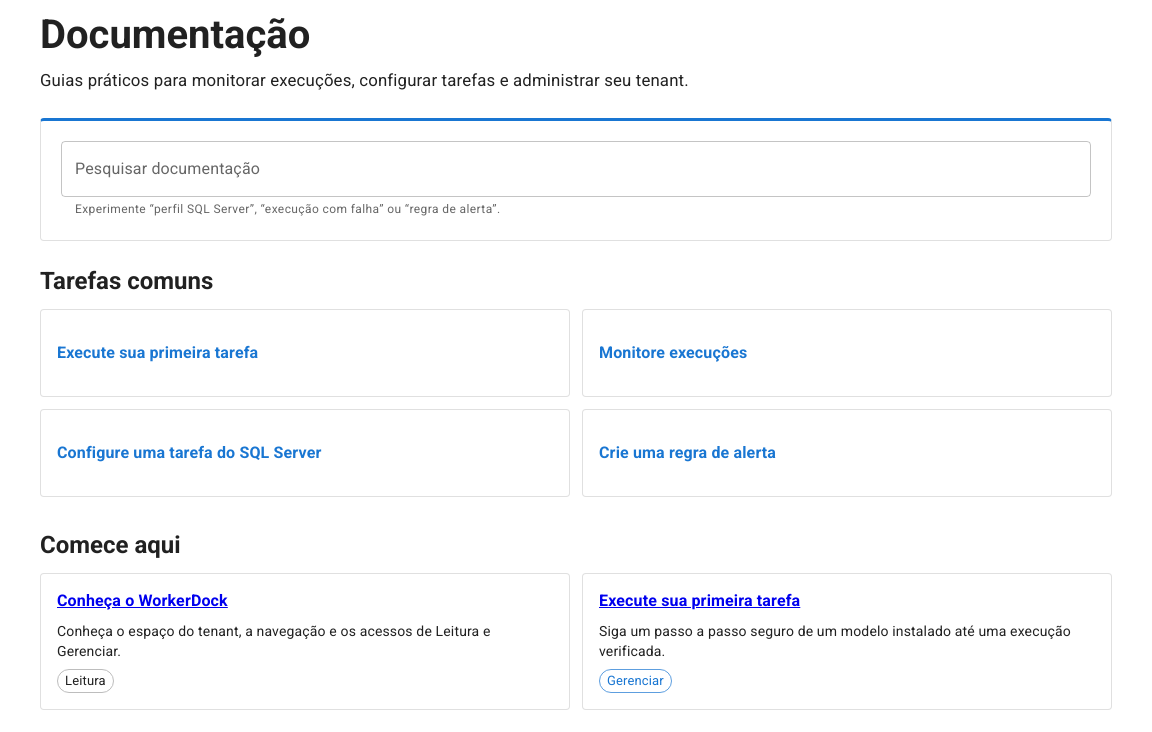
it: tenant Documentation home › offers a useful empty search state in pt-BR
Type "xyz-no-such-topic" into the search field at (576, 169), box [61,141,1091,197]
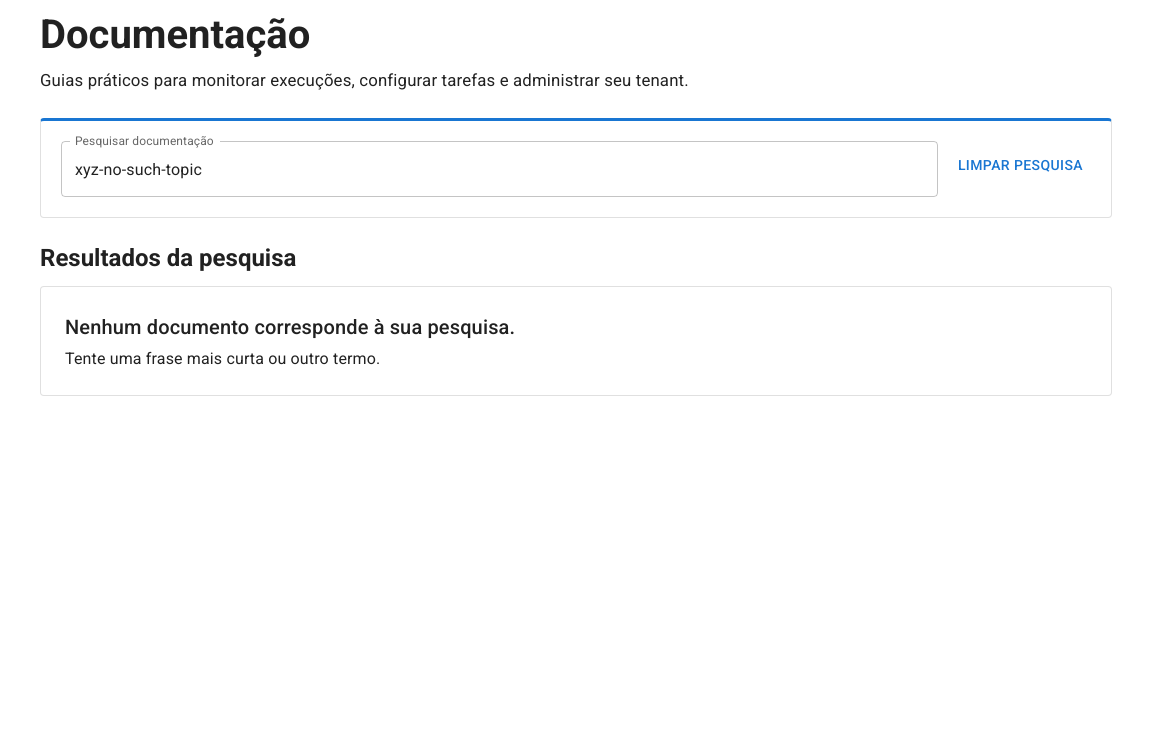
Check: the heading "Nenhum documento corresponde à sua pesquisa." is shown, box [65,315,515,339]
Check: the button "Limpar pesquisa" is shown, box [950,141,1091,189]
